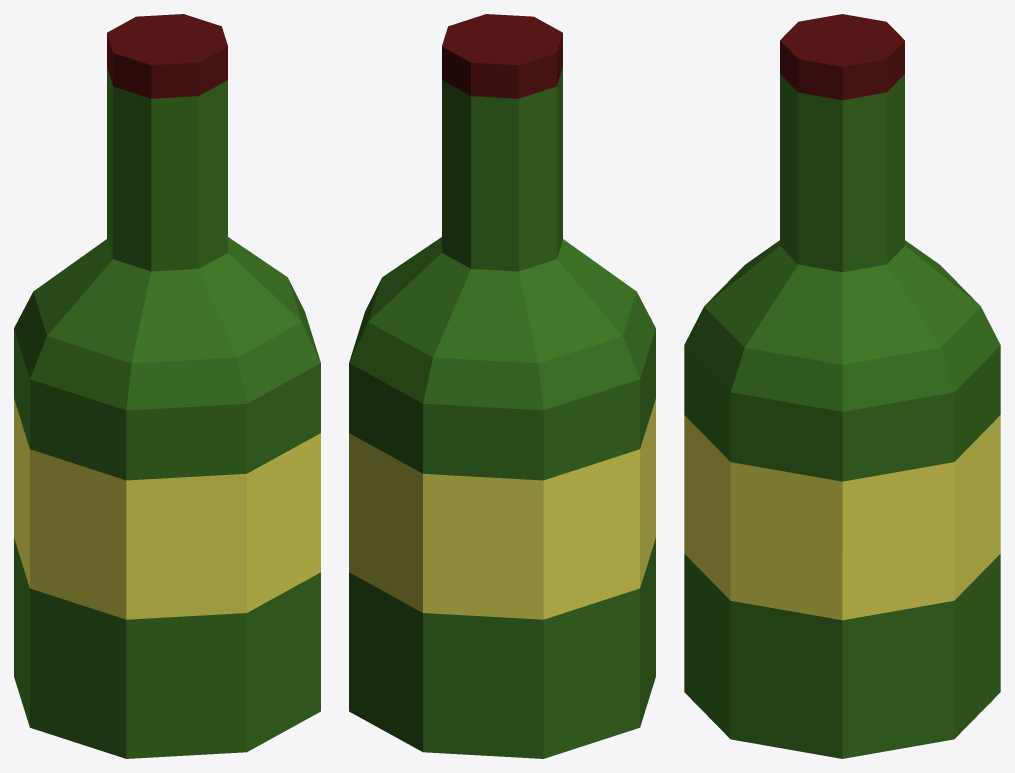
File: pandemonium_wine_bottle.fbx
The picture shows the model from 3 angles, left to right: view 1: azimuth 30°, elevation 25°; view 2: azimuth 150°, elevation 25°; view 3: azimuth 270°, elevation 25°; orthographic projection.
Parts seen in each view (by area): view 1: Cylinder; view 2: Cylinder; view 3: Cylinder.
Boxes of the visible parts, x1,y1,x2,y2 form: Cylinder: (14, 14, 320, 758); Cylinder: (349, 14, 655, 758); Cylinder: (684, 14, 1000, 758).
Bounding box in the file's own units: 27.13 × 61.65 × 27.13.
